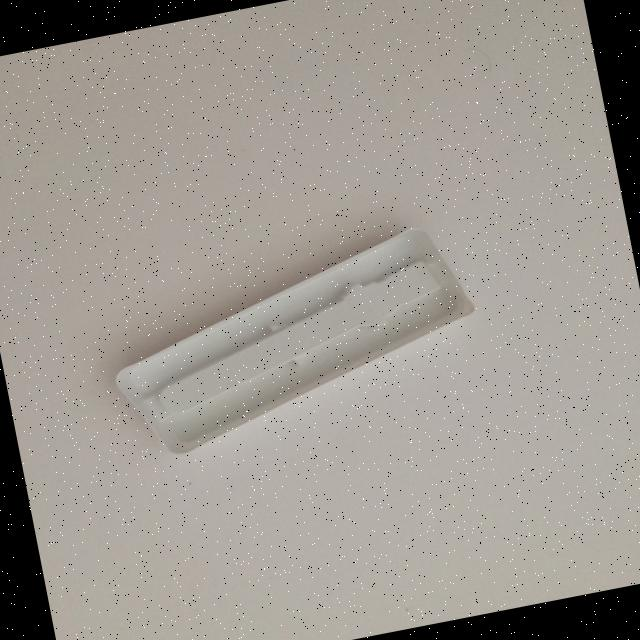plastic: (96, 218, 492, 464)
